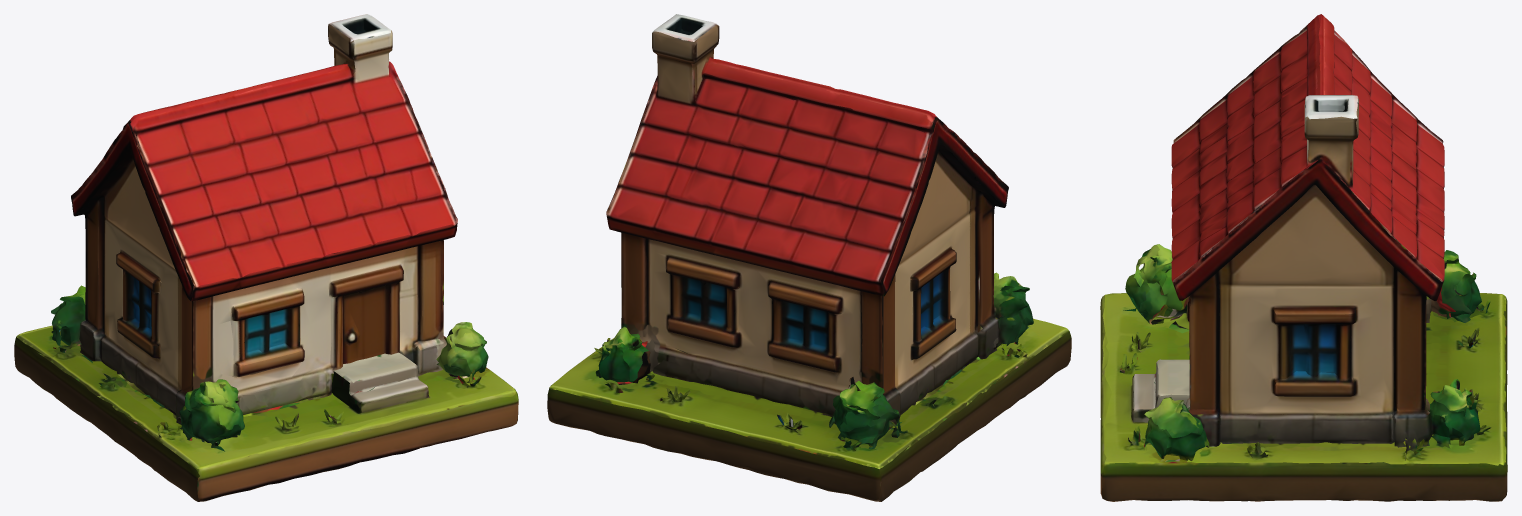
Rendered from CelCityHouse1.glb.
The picture shows the model from 3 angles, left to right: view 1: azimuth 30°, elevation 25°; view 2: azimuth 150°, elevation 25°; view 3: azimuth 270°, elevation 25°; orthographic projection. The views are drawn at different scales.
Visible parts, largest first — view 1: tmpq_s8_a7z.ply; view 2: tmpq_s8_a7z.ply; view 3: tmpq_s8_a7z.ply.
Part boxes in pixels (bbox=[...]): tmpq_s8_a7z.ply: bbox=[14, 14, 518, 501]; tmpq_s8_a7z.ply: bbox=[547, 14, 1071, 501]; tmpq_s8_a7z.ply: bbox=[1100, 14, 1507, 501].
Bounding box in the file's own units: 1.96 × 1.96 × 1.96.
1 material, 1 textured.
